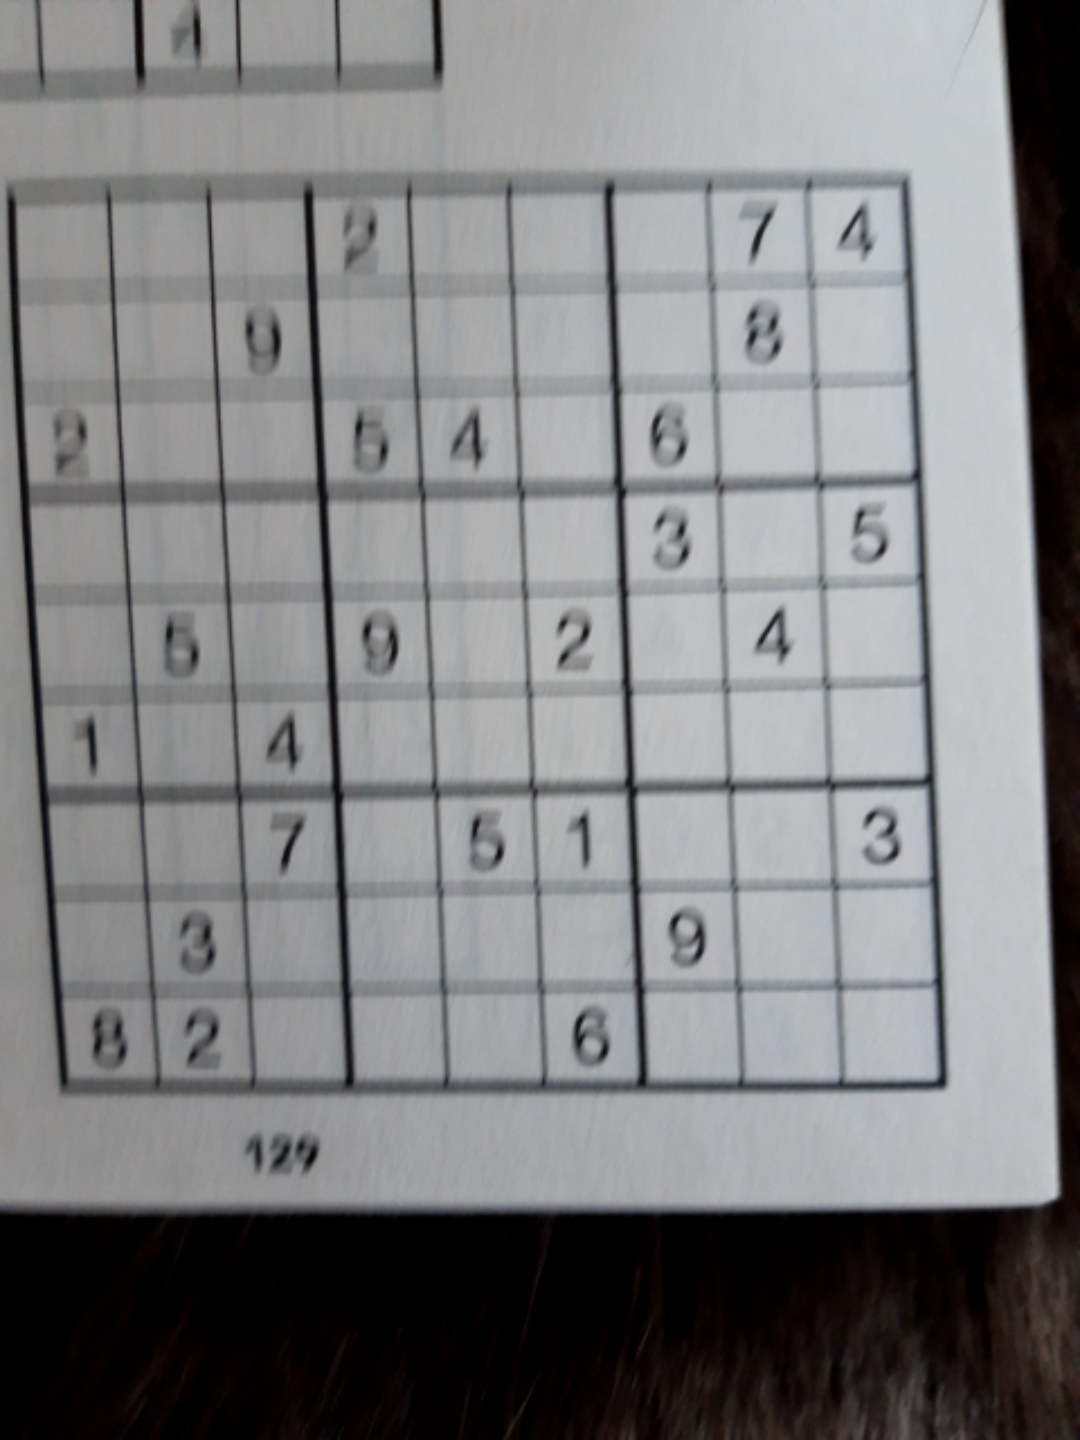sudoku: (2, 162, 953, 1098)
